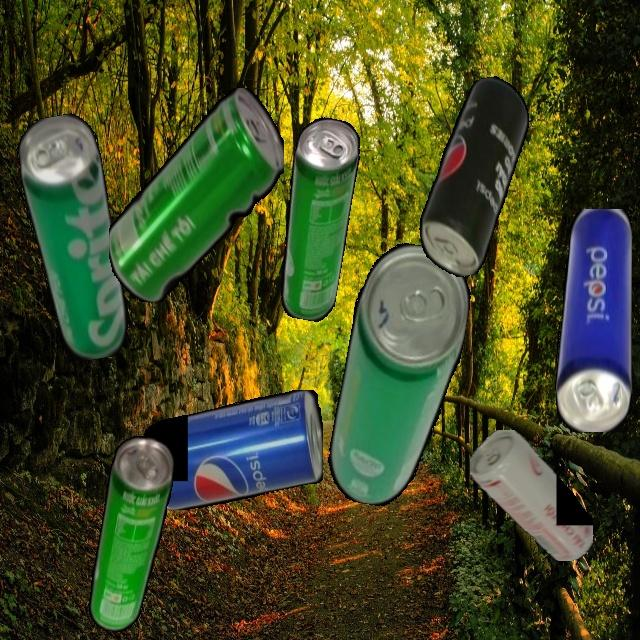debris: (322, 237, 478, 515), (108, 87, 284, 302), (396, 72, 554, 282), (12, 110, 135, 366), (142, 389, 323, 510), (267, 114, 366, 324), (83, 432, 180, 637), (554, 208, 632, 432), (469, 430, 593, 561)
